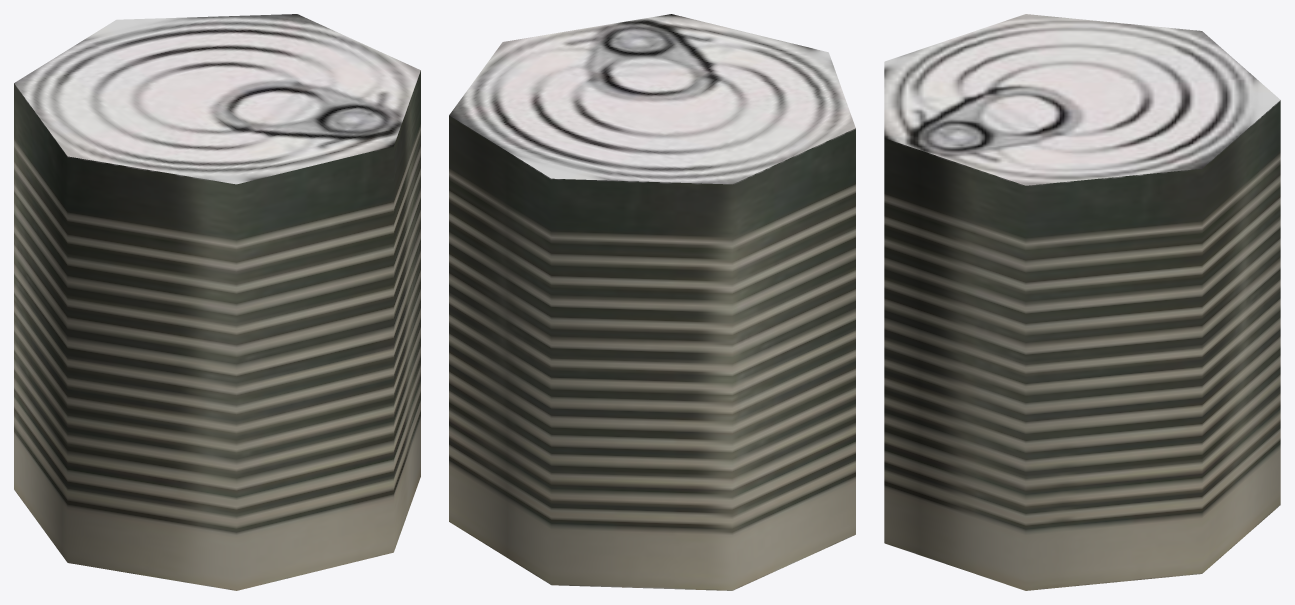
File: Can.glb
3 renders of one model, left to right at view 1: azimuth 30°, elevation 25°; view 2: azimuth 150°, elevation 25°; view 3: azimuth 270°, elevation 25°, orthographic.
Parts seen in each view (by area): view 1: Can; view 2: Can; view 3: Can.
Boxes of the visible parts, left/top/right/bottom form: Can: left=14, top=14, right=420, bottom=590; Can: left=449, top=14, right=855, bottom=590; Can: left=884, top=14, right=1280, bottom=590.
Bounding box in the file's own units: 0.196 × 0.2155 × 0.1911.
1 material, 1 textured.
